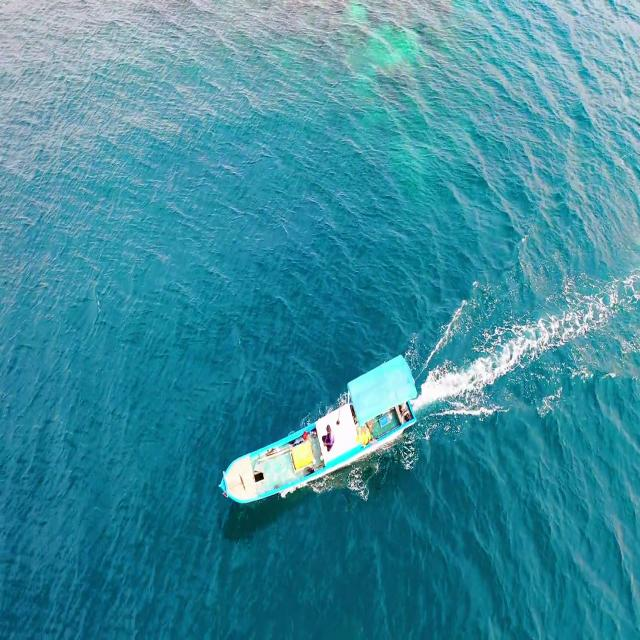ship: (215, 350, 421, 508)
